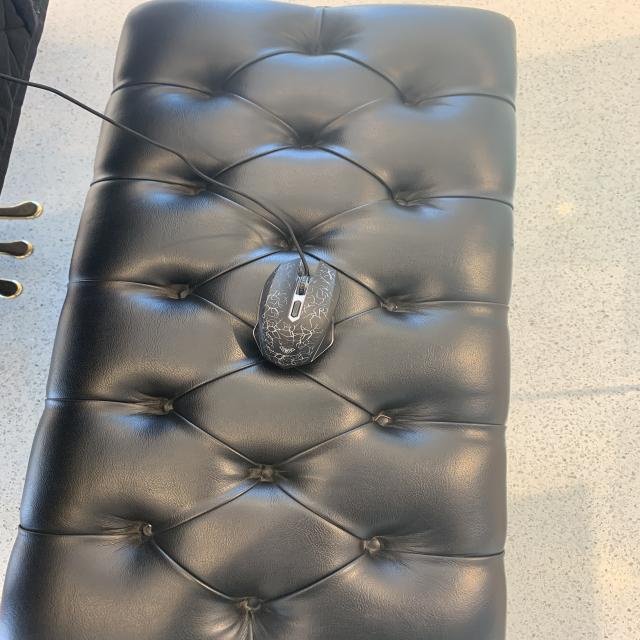Mouse: (250, 248, 342, 376)
